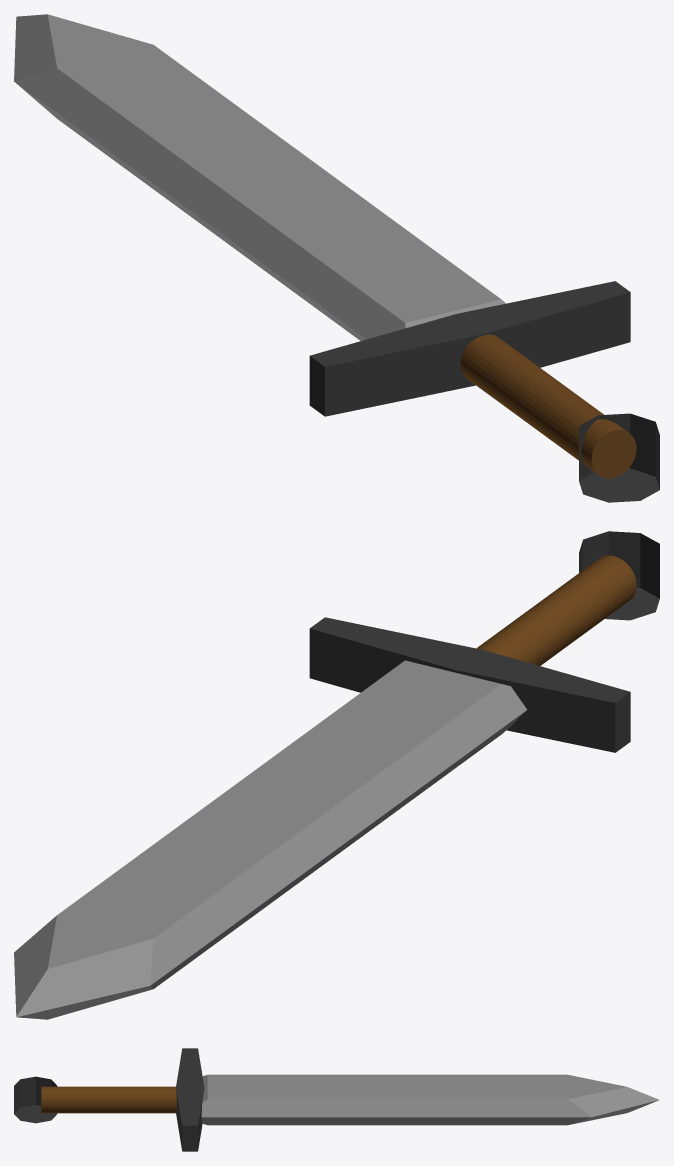
The model's file is SwordIcon.fbx.
3 renders of one model, top to bottom at view 1: azimuth 30°, elevation 25°; view 2: azimuth 150°, elevation 25°; view 3: azimuth 270°, elevation 25°, orthographic. The views are drawn at different scales.
Parts seen in each view (by area): view 1: Cube.003; view 2: Cube.003; view 3: Cube.003.
Part boxes in pixels (box(x1,y1,x2,y2)): Cube.003: box(14, 14, 659, 502); Cube.003: box(14, 531, 659, 1019); Cube.003: box(14, 1048, 659, 1151).
Bounding box in the file's own units: 73.53 × 12.62 × 260.
